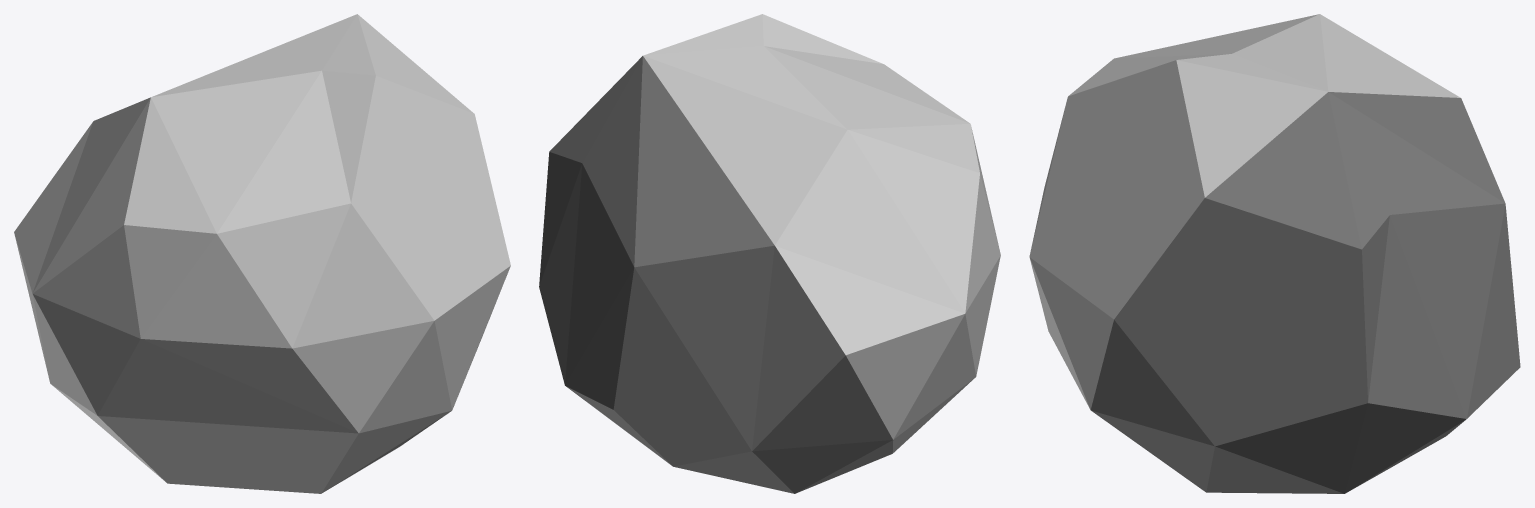
Rendered from rock.dae.
3 renders of one model, left to right at view 1: azimuth 30°, elevation 25°; view 2: azimuth 150°, elevation 25°; view 3: azimuth 270°, elevation 25°, orthographic. The views are drawn at different scales.
Visible parts, largest first — view 1: Icosphere.001; view 2: Icosphere.001; view 3: Icosphere.001.
Boxes of the visible parts, x1,y1,x2,y2 form: Icosphere.001: (14, 14, 510, 493); Icosphere.001: (539, 14, 1000, 493); Icosphere.001: (1029, 14, 1520, 493).
Bounding box in the file's own units: 1.92 × 1.83 × 1.72.
